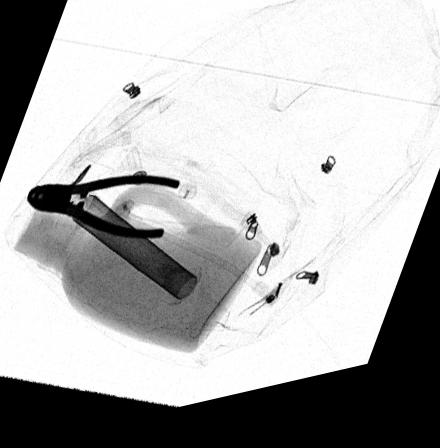Pliers: (25, 182, 181, 248)
